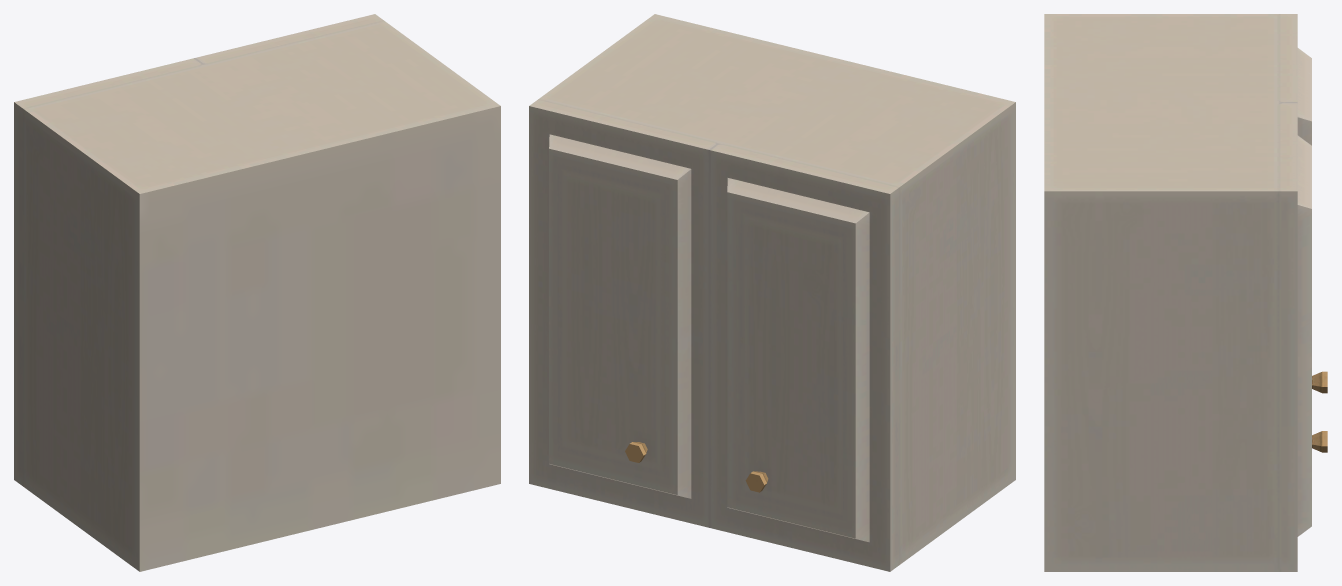
File: P_Cupboard_006_S1_M02.obj
3 views of the same model, side by side, from view 1: azimuth 30°, elevation 25°; view 2: azimuth 150°, elevation 25°; view 3: azimuth 270°, elevation 25° (orthographic).
Size of the model in its own units: 1 by 1 by 0.675.
1 material, 1 textured.
